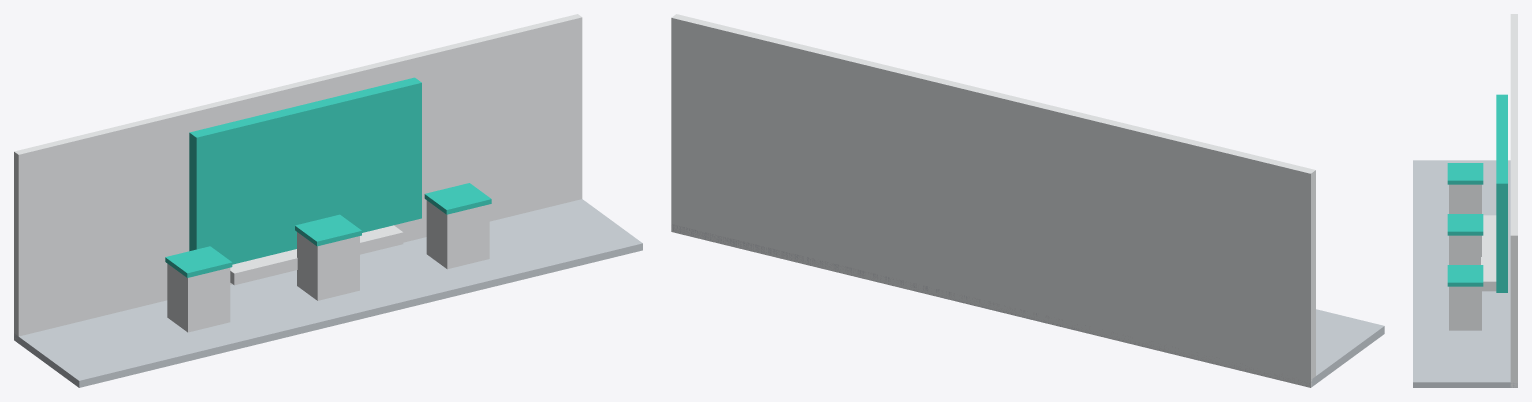
The picture shows the model from 3 angles, left to right: view 1: azimuth 30°, elevation 25°; view 2: azimuth 150°, elevation 25°; view 3: azimuth 270°, elevation 25°; orthographic projection. The views are drawn at different scales.
Visible parts, largest first — view 1: Exhibition Booth Concept; view 2: Exhibition Booth Concept; view 3: Exhibition Booth Concept.
Part boxes in pixels (bbox=[...]): Exhibition Booth Concept: bbox=[14, 14, 642, 387]; Exhibition Booth Concept: bbox=[671, 14, 1384, 387]; Exhibition Booth Concept: bbox=[1413, 14, 1517, 387].
Size of the model in its own units: 10 by 3.2 by 2.
